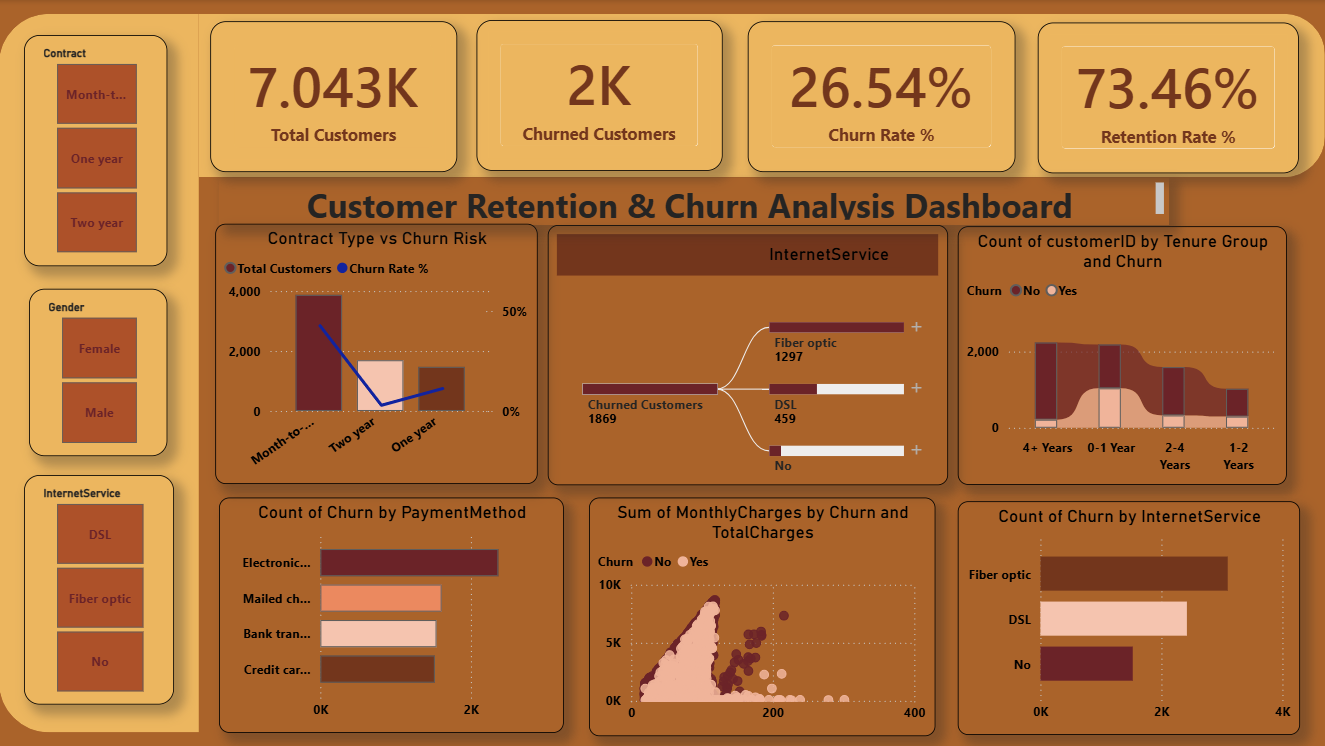

The page's visual inventory and layout, read from the dashboard file:
{"tool":"powerbi","page":{"name":"DASHBOARD","canvas":[1280,720],"ordinal":0},"visuals":[{"type":"shape","box":[0,13.3,193,693.7],"z":0},{"type":"shape","box":[193.5,13.7,1086.8,157.8],"z":1000},{"type":"cardVisual","fields":{"Data":["WA_Fn-UseC_-Telco-Customer-Churn.Total Customers"]},"box":[204.5,20.6,238.8,145.5],"z":2000},{"type":"cardVisual","fields":{"Data":["WA_Fn-UseC_-Telco-Customer-Churn.Churned Customers"]},"box":[460.9,19.3,237.7,146],"z":3000},{"type":"cardVisual","fields":{"Data":["WA_Fn-UseC_-Telco-Customer-Churn.Churn Rate %"]},"box":[722.7,20.5,258.2,146],"z":4000},{"type":"cardVisual","fields":{"Data":["WA_Fn-UseC_-Telco-Customer-Churn.Retention Rate %"]},"box":[1002.6,21.7,252.1,146],"z":5000},{"type":"decompositionTreeVisual","fields":{"Analyze":["WA_Fn-UseC_-Telco-Customer-Churn.Churned Customers"],"ExplainBy":["WA_Fn-UseC_-Telco-Customer-Churn.InternetService","WA_Fn-UseC_-Telco-Customer-Churn.PaymentMethod","WA_Fn-UseC_-Telco-Customer-Churn.Tenure Group","WA_Fn-UseC_-Telco-Customer-Churn.gender","WA_Fn-UseC_-Telco-Customer-Churn.Contract"]},"box":[529.6,217.2,386.1,250.9],"z":6000},{"type":"lineClusteredColumnComboChart","title":"Contract Type vs Churn Risk","fields":{"Category":["WA_Fn-UseC_-Telco-Customer-Churn.Contract"],"Y2":["WA_Fn-UseC_-Telco-Customer-Churn.Churn Rate %"],"Y":["WA_Fn-UseC_-Telco-Customer-Churn.Total Customers"]},"box":[208.7,216,311.3,250.9],"z":7000},{"type":"ribbonChart","fields":{"Category":["WA_Fn-UseC_-Telco-Customer-Churn.Tenure Group"],"Series":["WA_Fn-UseC_-Telco-Customer-Churn.Churn"],"Y":["CountNonNull(WA_Fn-UseC_-Telco-Customer-Churn.customerID)"]},"box":[925.3,218.4,317.3,249.7],"z":8000},{"type":"barChart","fields":{"Category":["WA_Fn-UseC_-Telco-Customer-Churn.PaymentMethod"],"Y":["CountNonNull(WA_Fn-UseC_-Telco-Customer-Churn.Churn)"]},"box":[212.3,480.2,333,226.8],"z":9000},{"type":"barChart","fields":{"Y":["CountNonNull(WA_Fn-UseC_-Telco-Customer-Churn.Churn)"],"Category":["WA_Fn-UseC_-Telco-Customer-Churn.InternetService"]},"box":[925.3,483.8,330.6,225.6],"z":10000},{"type":"scatterChart","fields":{"X":["Sum(WA_Fn-UseC_-Telco-Customer-Churn.MonthlyCharges)"],"Series":["WA_Fn-UseC_-Telco-Customer-Churn.Churn"],"Y":["WA_Fn-UseC_-Telco-Customer-Churn.TotalCharges"]},"box":[569.4,480.2,334.2,230.4],"z":11000},{"type":"slicer","fields":{"Values":["WA_Fn-UseC_-Telco-Customer-Churn.gender"]},"box":[29,278.7,133.9,161.7],"z":12000},{"type":"slicer","fields":{"Values":["WA_Fn-UseC_-Telco-Customer-Churn.Contract"]},"box":[24.1,33.8,138.7,223.2],"z":13000},{"type":"slicer","fields":{"Values":["WA_Fn-UseC_-Telco-Customer-Churn.InternetService"]},"box":[24.1,458.4,144.8,222],"z":14000},{"type":"textbox","box":[212.3,171.3,916.9,45.8],"z":15000}]}

Visuals, with their boxes in screenshot pixels (x1, y1, x2, y2), scaled from the page's 1280x720 canvas onto the 1325x746 screenshot:
shape: [0, 14, 200, 733]
shape: [200, 14, 1324, 178]
cardVisual - WA_Fn-UseC_-Telco-Customer-Churn.Total Customers: [212, 21, 459, 172]
cardVisual - WA_Fn-UseC_-Telco-Customer-Churn.Churned Customers: [477, 20, 723, 171]
cardVisual - WA_Fn-UseC_-Telco-Customer-Churn.Churn Rate %: [748, 21, 1015, 173]
cardVisual - WA_Fn-UseC_-Telco-Customer-Churn.Retention Rate %: [1038, 22, 1299, 174]
decompositionTreeVisual - WA_Fn-UseC_-Telco-Customer-Churn.Churned Customers x WA_Fn-UseC_-Telco-Customer-Churn.InternetService: [548, 225, 948, 485]
"Contract Type vs Churn Risk" lineClusteredColumnComboChart: [216, 224, 538, 484]
ribbonChart - WA_Fn-UseC_-Telco-Customer-Churn.Tenure Group x WA_Fn-UseC_-Telco-Customer-Churn.Churn: [958, 226, 1286, 485]
barChart - WA_Fn-UseC_-Telco-Customer-Churn.PaymentMethod x CountNonNull(WA_Fn-UseC_-Telco-Customer-Churn.Churn): [220, 498, 564, 733]
barChart - CountNonNull(WA_Fn-UseC_-Telco-Customer-Churn.Churn) x WA_Fn-UseC_-Telco-Customer-Churn.InternetService: [958, 501, 1300, 735]
scatterChart - Sum(WA_Fn-UseC_-Telco-Customer-Churn.MonthlyCharges) x WA_Fn-UseC_-Telco-Customer-Churn.Churn: [589, 498, 935, 736]
slicer - WA_Fn-UseC_-Telco-Customer-Churn.gender: [30, 289, 169, 456]
slicer - WA_Fn-UseC_-Telco-Customer-Churn.Contract: [25, 35, 169, 266]
slicer - WA_Fn-UseC_-Telco-Customer-Churn.InternetService: [25, 475, 175, 705]
textbox: [220, 177, 1169, 225]
